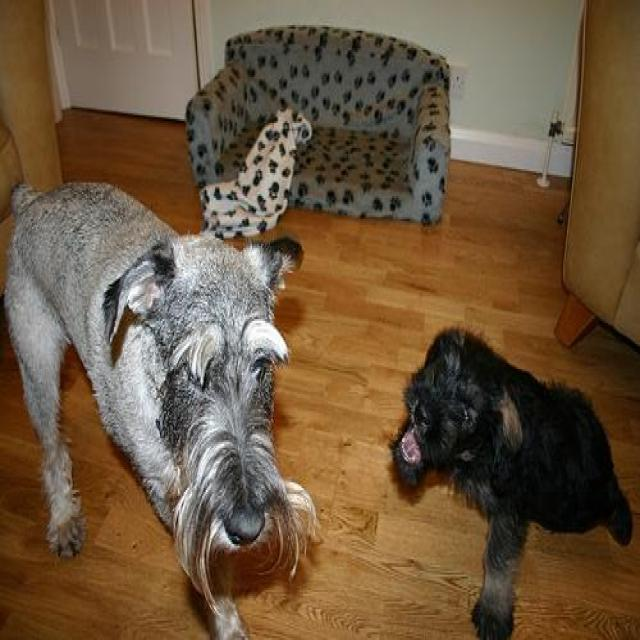standard_schnauzer: (8, 179, 316, 634), (386, 319, 634, 638)
